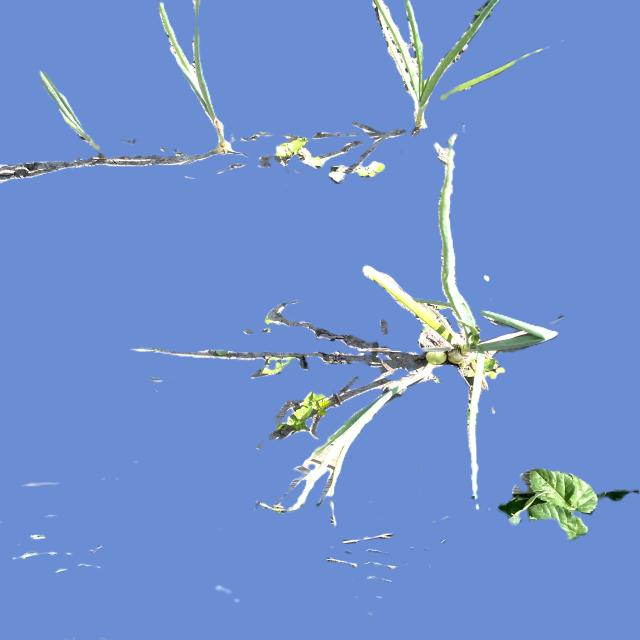Onion: (354, 232, 568, 439), (376, 8, 474, 132), (162, 23, 228, 153)
weed: (523, 468, 597, 536), (276, 389, 334, 437), (278, 135, 311, 159)
